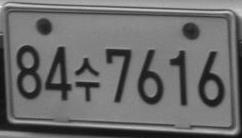1: (168, 49, 195, 106)
4: (45, 46, 72, 101)
6: (197, 50, 225, 107), (137, 48, 164, 104)
7: (105, 48, 131, 103)
8: (16, 44, 42, 99)
수: (75, 57, 100, 102)
